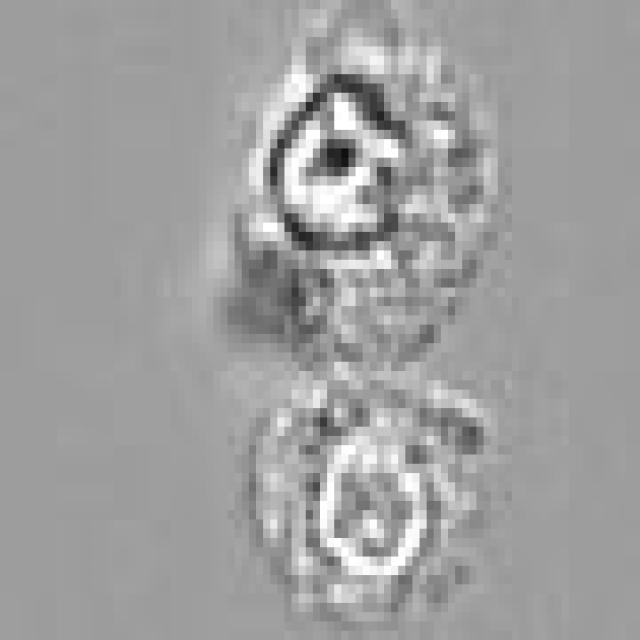Cancer Cell: (242, 9, 498, 362)
WBC: (256, 371, 498, 612)
